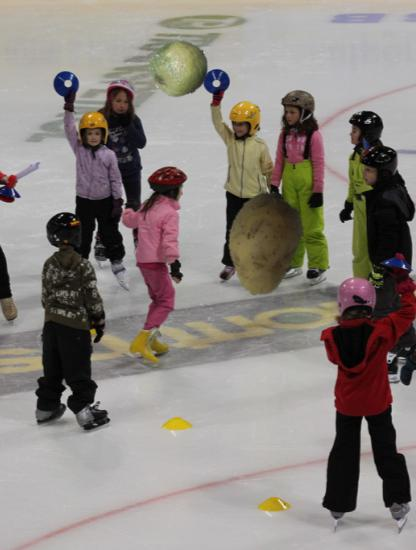Limes: (150, 39, 209, 98)
Potato: (211, 191, 316, 296)
